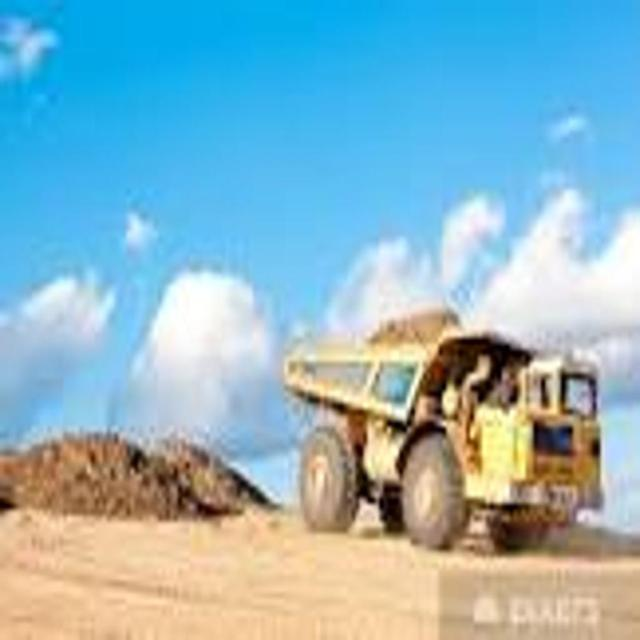dump_truck: (282, 294, 610, 572)
